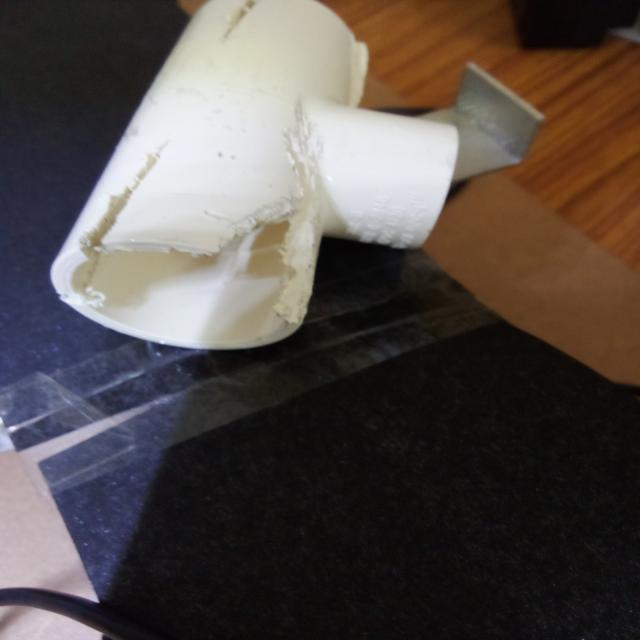Defective: (100, 160, 157, 248), (234, 201, 296, 281), (289, 101, 330, 185), (88, 255, 150, 297), (225, 0, 265, 42)
T Joint: (48, 0, 460, 352)
